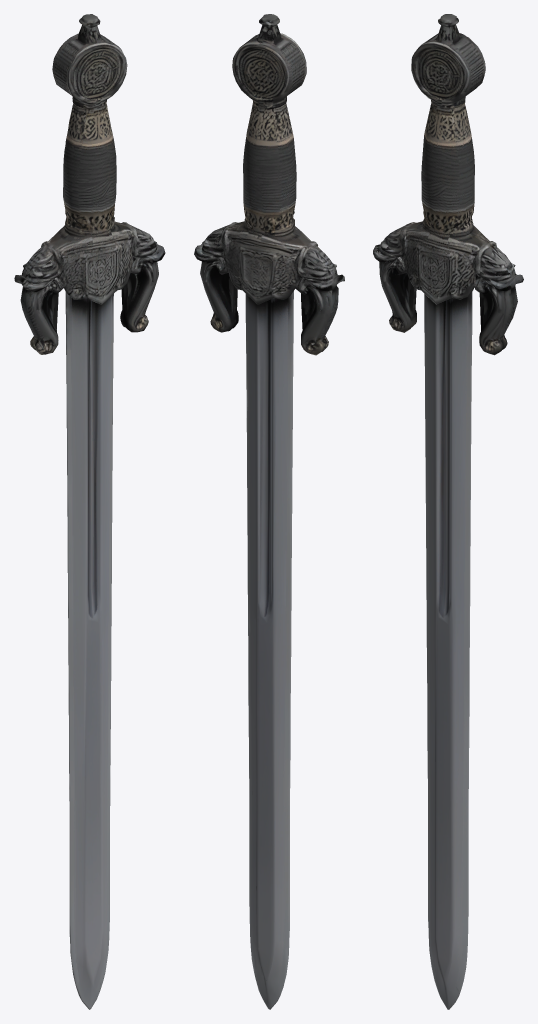
File: espada.glb
3 views of the same model, side by side, from view 1: azimuth 30°, elevation 25°; view 2: azimuth 150°, elevation 25°; view 3: azimuth 330°, elevation 25° (orthographic).
Parts seen in each view (by area): view 1: Espada_Nazari; view 2: Espada_Nazari; view 3: Espada_Nazari.
Boxes of the visible parts, x1,y1,x2,y2 form: Espada_Nazari: [14, 14, 165, 1009]; Espada_Nazari: [194, 14, 344, 1009]; Espada_Nazari: [373, 14, 523, 1009].
Size of the model in its own units: 0.359 by 2.4 by 0.117.
Materials: 1 (1 with a texture image).
